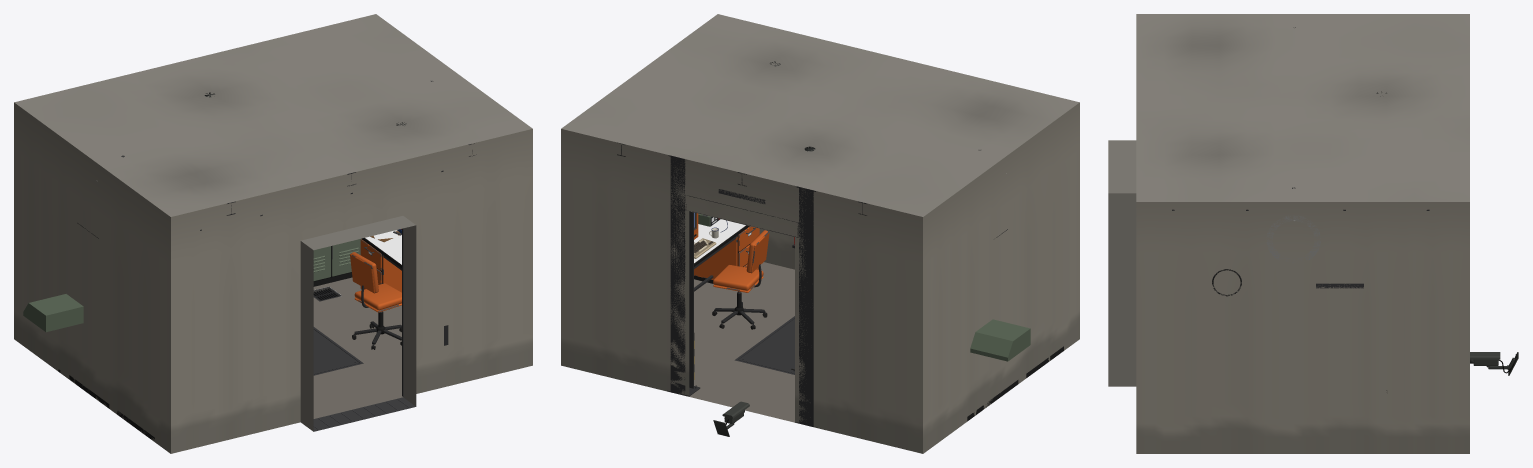
Rendered from bunker.glb.
3 views of the same model, side by side, from view 1: azimuth 30°, elevation 25°; view 2: azimuth 150°, elevation 25°; view 3: azimuth 270°, elevation 25° (orthographic). The views are drawn at different scales.
Parts seen in each view (by area): view 1: bunker_wall, bunker_concrete, bunker_floor, bunker_steel, bunker_green, bunker_misc, bunker_orange, bunker_decal; view 2: bunker_wall, bunker_concrete, bunker_steel, bunker_floor, bunker_misc, bunker_orange, bunker_green, bunker_decal, bunker_cctv@cctv; view 3: bunker_wall, bunker_concrete, bunker_cctv@cctv, bunker_alu.
Part boxes in pixels (<box>): bunker_wall: <box>14,102,532,453</box>; bunker_concrete: <box>14,14,532,431</box>; bunker_floor: <box>313,277,402,418</box>; bunker_steel: <box>77,81,476,431</box>; bunker_green: <box>23,239,360,332</box>; bunker_misc: <box>58,92,406,439</box>; bunker_orange: <box>350,239,401,312</box>; bunker_decal: <box>365,230,401,264</box>; bunker_wall: <box>561,102,1079,453</box>; bunker_concrete: <box>561,14,1079,369</box>; bunker_steel: <box>617,142,1007,427</box>; bunker_floor: <box>689,262,794,422</box>; bunker_misc: <box>694,61,1063,421</box>; bunker_orange: <box>694,213,769,292</box>; bunker_green: <box>698,213,1030,361</box>; bunker_decal: <box>694,217,751,262</box>; bunker_cctv@cctv: <box>713,401,749,436</box>; bunker_wall: <box>1136,202,1469,453</box>; bunker_concrete: <box>1108,14,1469,386</box>; bunker_cctv@cctv: <box>1470,352,1518,375</box>; bunker_alu: <box>1266,215,1320,263</box>.
Bounding box in the file's own units: 5.3 × 3.16 × 4.43.
